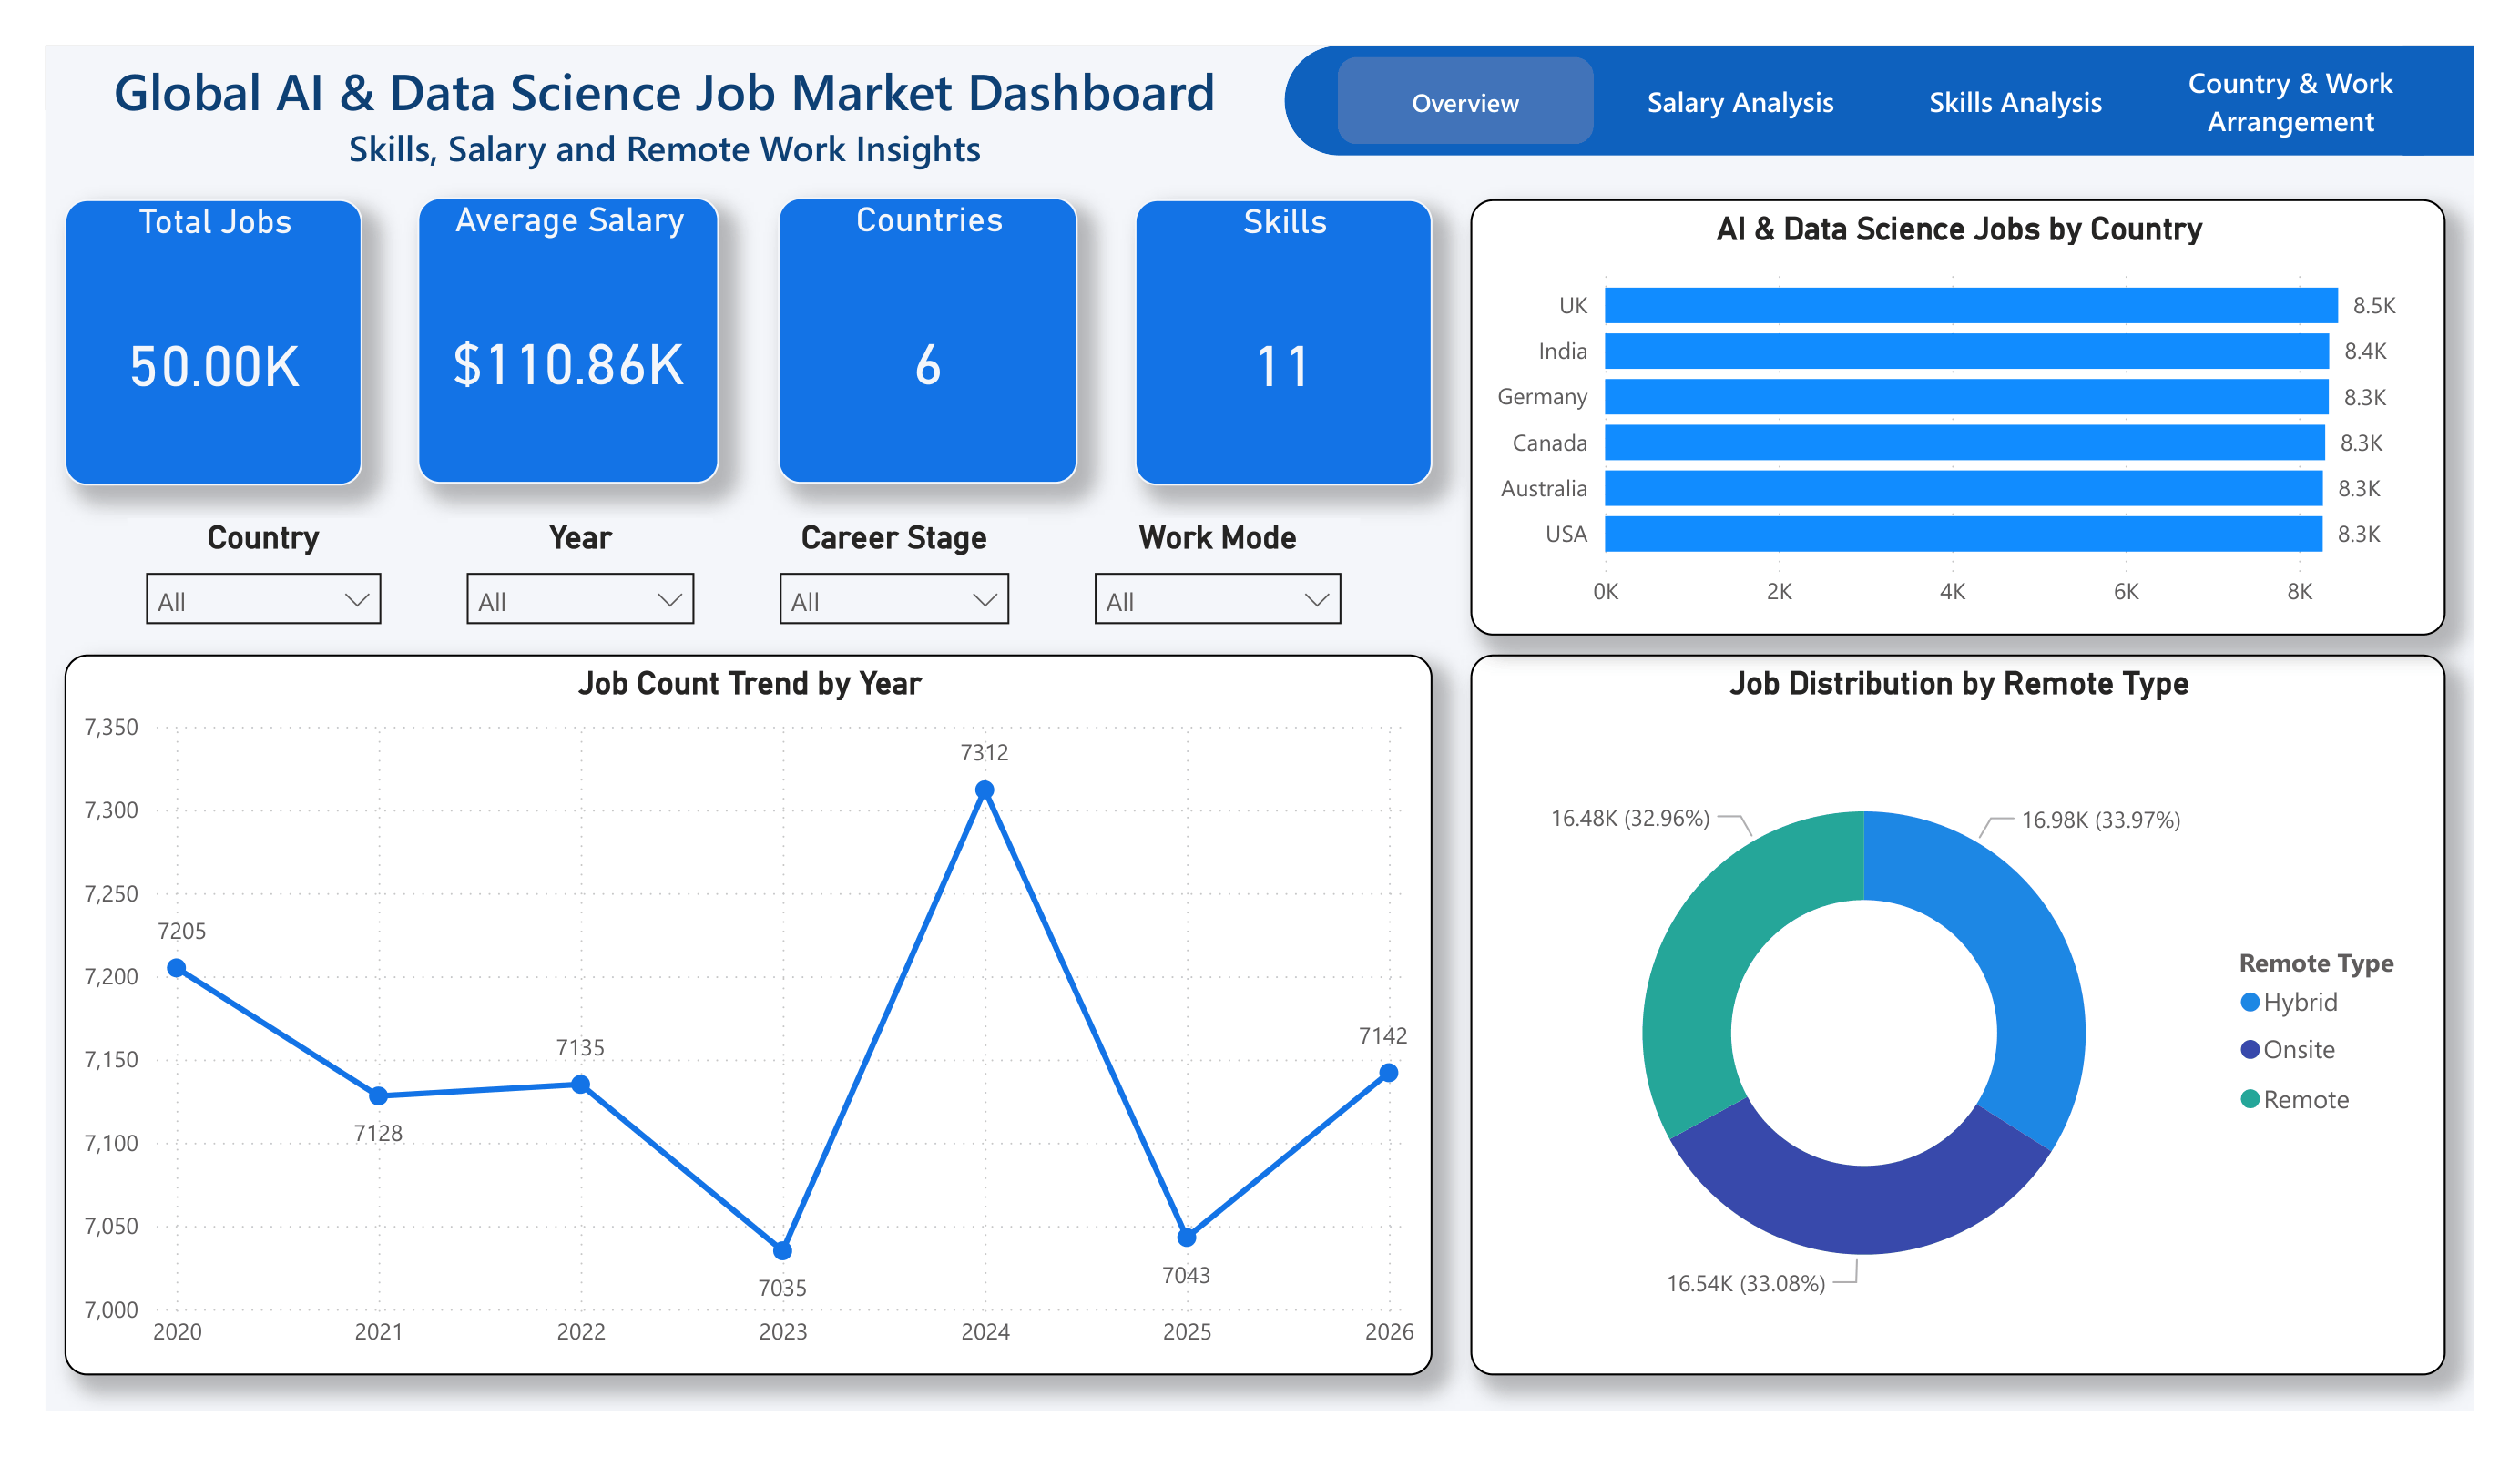

This screenshot's page, from the dashboard's own definition file:
{"tool":"powerbi","page":{"name":"Overview","canvas":[1280,720],"ordinal":0},"visuals":[{"type":"card","title":"Total Jobs","fields":{"Values":["CountNonNull(ai_jobs_powerbi.job_id)"]},"box":[19.2,37,278.6,279.9],"z":0},{"type":"card","title":"Average Salary","fields":{"Values":["Avg(ai_jobs_powerbi.salary_avg_usd)"]},"box":[19.2,359.5,279.9,279.9],"z":1000},{"type":"card","title":"Countries","fields":{"Values":["Count(ai_jobs_powerbi.country)"]},"box":[319,38.9,280.1,279.1],"z":2000},{"type":"card","title":"Skills","fields":{"Values":["Count(skills_demand_powerbi.skill)"]},"box":[319,359.9,280.1,280.1],"z":3000},{"type":"lineChart","title":"Job Count Trend by Year","fields":{"Category":["ai_jobs_powerbi.posted_year"],"Y":["CountNonNull(ai_jobs_powerbi.job_id)"]},"box":[608.9,13.6,660.4,317.1],"z":4000},{"type":"donutChart","title":"Job Distribution by Remote Type","fields":{"Category":["ai_jobs_powerbi.remote_type"],"Y":["CountNonNull(ai_jobs_powerbi.job_id)"]},"box":[609.3,337.6,660,373.2],"z":5000}]}

Visuals, with their boxes on the page's 1280x720 design canvas (x1, y1, x2, y2). These are canvas units, not pixel positions in the 2520x1457 screenshot, which may show the page scaled, cropped or inside an application window:
"Total Jobs" card: (left=19, top=37, right=298, bottom=317)
"Average Salary" card: (left=19, top=360, right=299, bottom=639)
"Countries" card: (left=319, top=39, right=599, bottom=318)
"Skills" card: (left=319, top=360, right=599, bottom=640)
"Job Count Trend by Year" lineChart: (left=609, top=14, right=1269, bottom=331)
"Job Distribution by Remote Type" donutChart: (left=609, top=338, right=1269, bottom=711)
